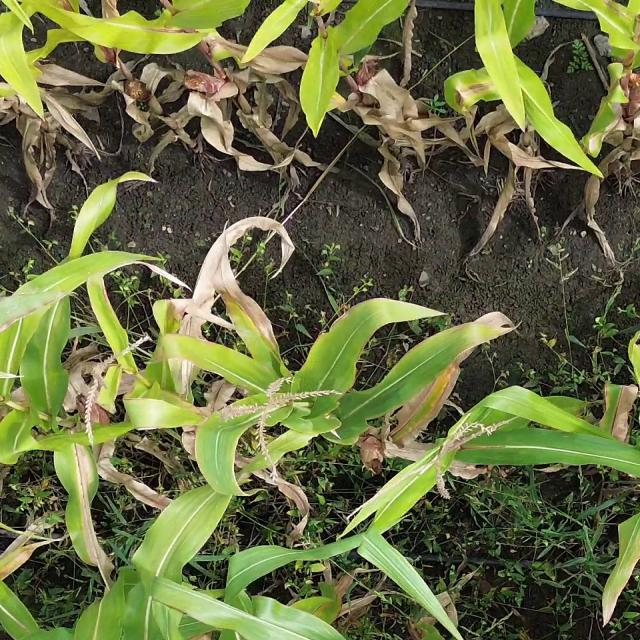northern-leaf-blight: (154, 266, 304, 395), (376, 328, 487, 454), (46, 444, 130, 591), (436, 59, 510, 119)
